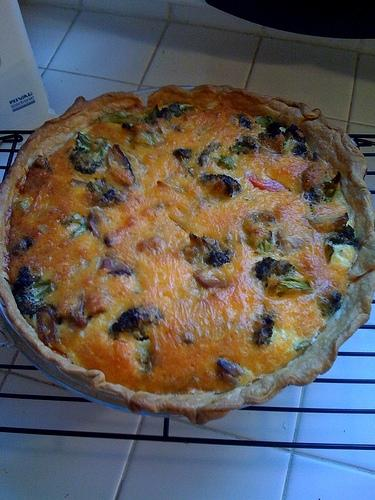broccoli: (242, 212, 301, 256), (11, 266, 54, 318), (252, 256, 313, 291), (110, 306, 164, 341), (66, 132, 108, 174), (324, 224, 358, 268), (86, 178, 126, 204), (60, 213, 89, 239), (253, 313, 276, 345), (316, 290, 342, 318), (304, 181, 336, 203), (216, 358, 247, 380), (196, 142, 222, 168), (173, 148, 195, 178), (69, 291, 87, 326), (229, 135, 258, 155), (292, 140, 316, 160), (205, 250, 230, 268), (10, 238, 34, 256), (169, 102, 194, 118), (108, 114, 140, 126), (133, 130, 155, 146), (217, 154, 236, 170)
